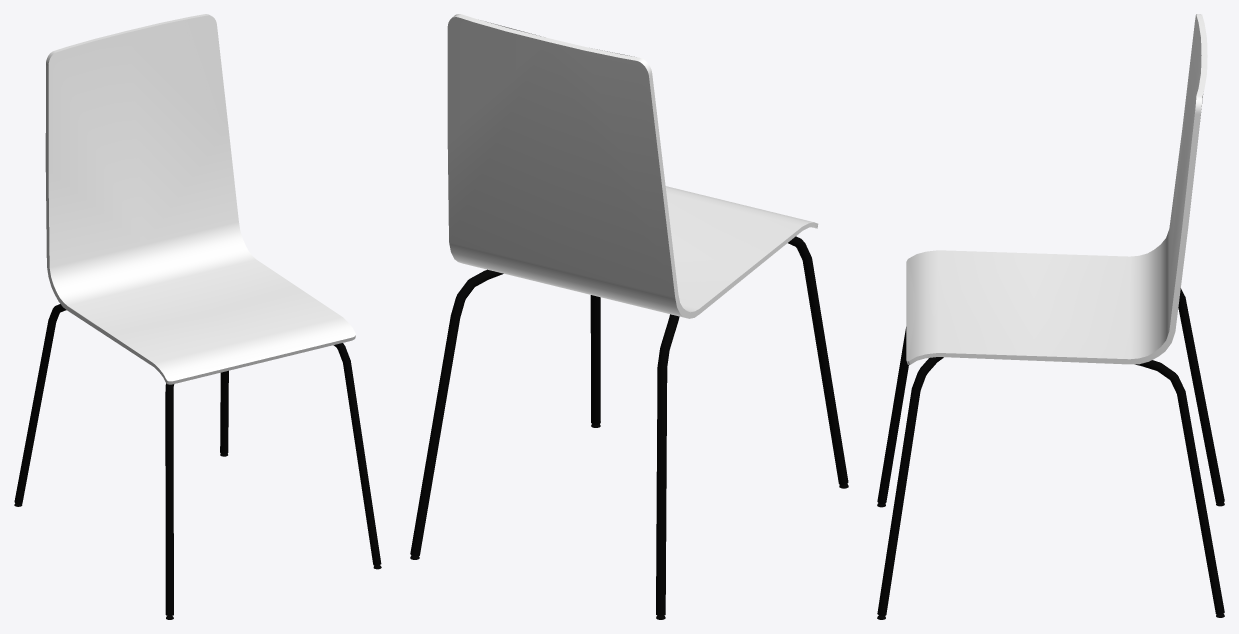
File: BP_Martin_C.glb
3 views of the same model, side by side, from view 1: azimuth 30°, elevation 25°; view 2: azimuth 150°, elevation 25°; view 3: azimuth 270°, elevation 25° (orthographic). The views are drawn at different scales.
Visible parts, largest first — view 1: Cube; view 2: Cube; view 3: Cube.
Boxes of the visible parts, x1=… form: Cube: x1=14, y1=14, x2=381, y2=619; Cube: x1=410, y1=14, x2=848, y2=619; Cube: x1=877, y1=14, x2=1224, y2=619.
Bounding box in the file's own units: 0.4111 × 0.8334 × 0.5188.
Materials: 2 (1 with a texture image).
